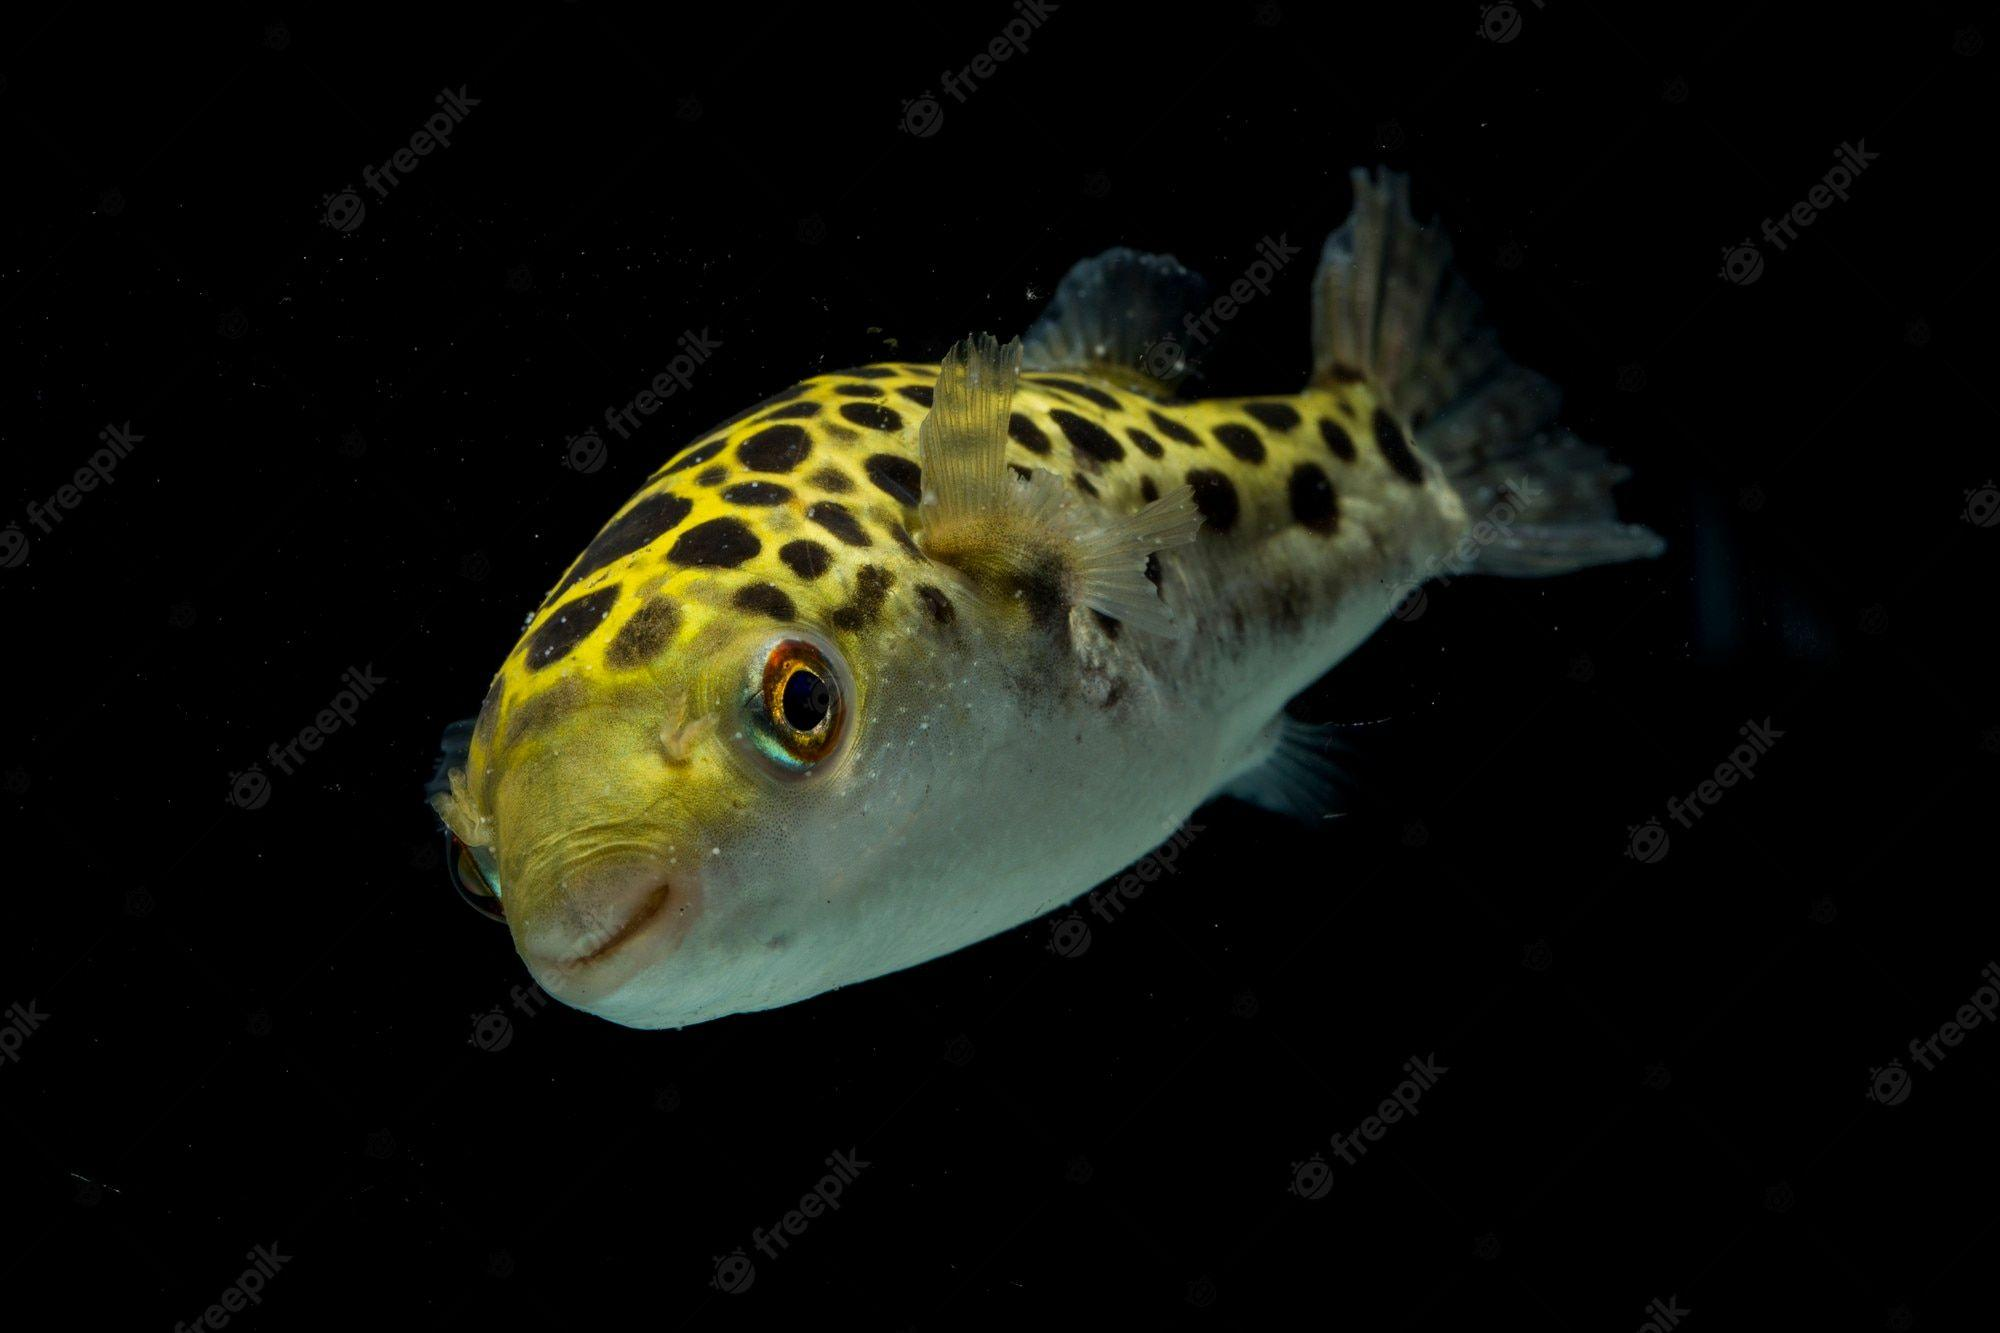Green Spotted Puffer: (434, 164, 1674, 1043)
